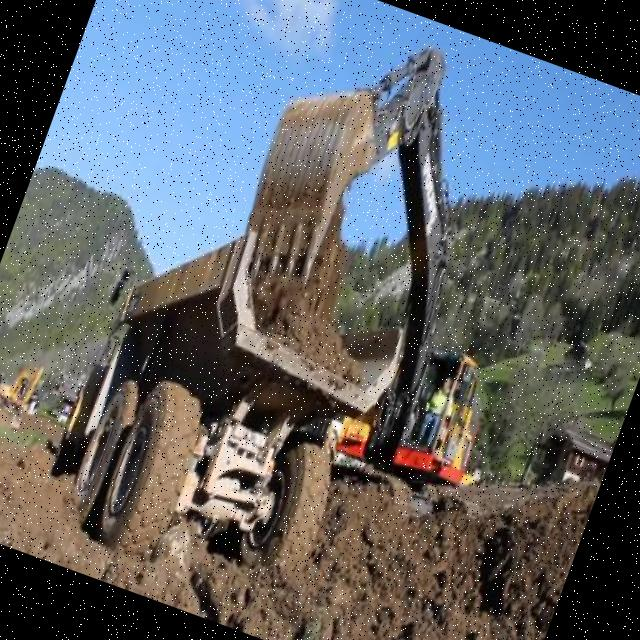Dump Truck: (25, 190, 409, 620)
Excavator: (165, 0, 628, 537)
